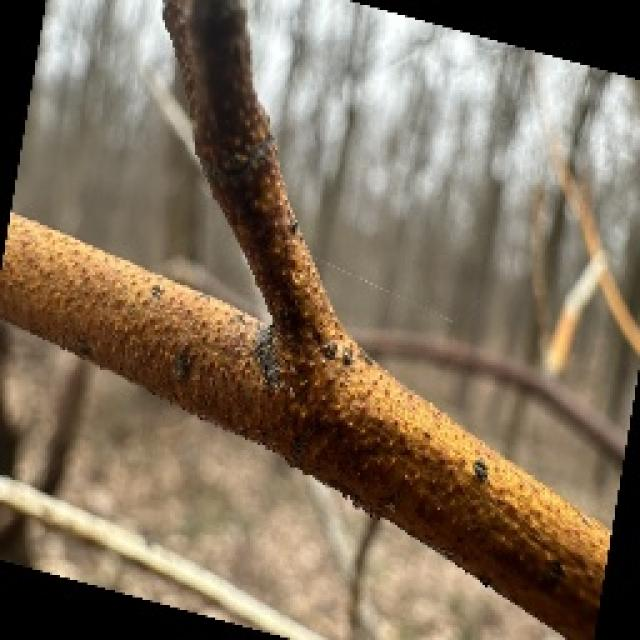Golden_canker: (0, 29, 631, 624)
